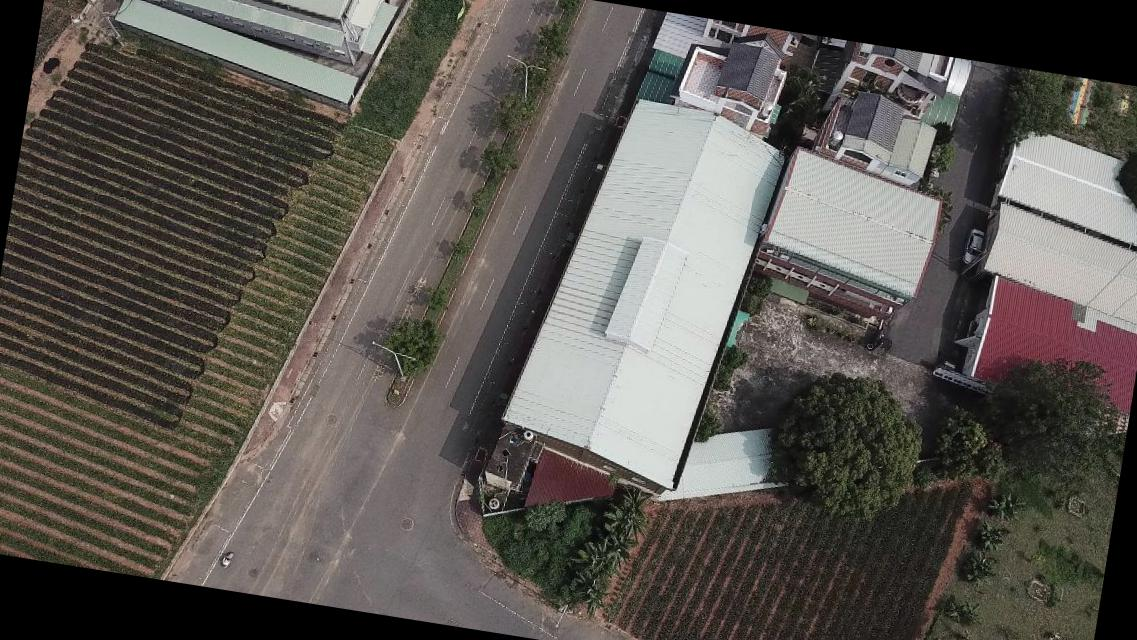vehicle: (960, 226, 987, 271)
